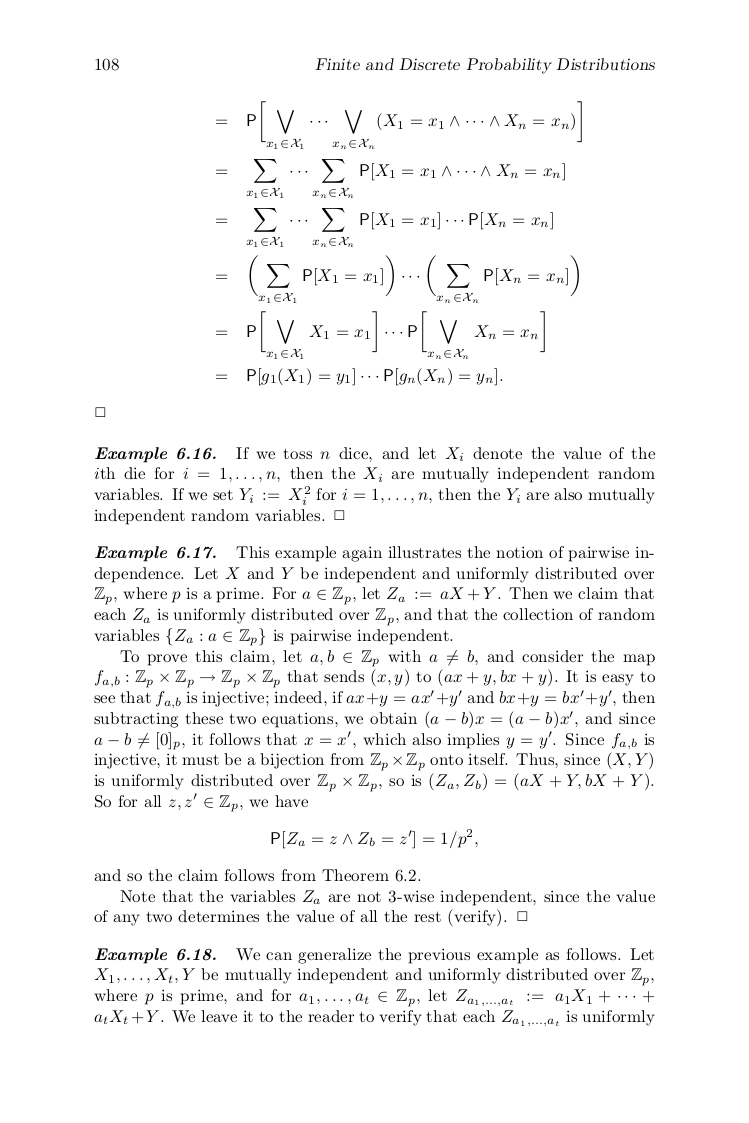formula: (216, 100, 581, 149), (216, 254, 578, 303), (216, 310, 544, 359), (216, 159, 564, 197), (216, 208, 552, 246), (216, 367, 502, 386), (271, 828, 477, 849)
